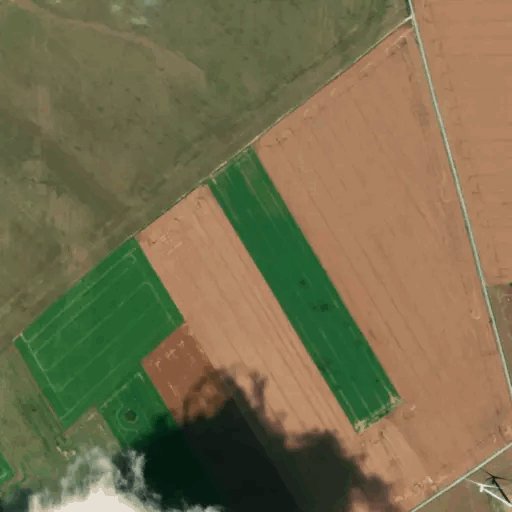wt: (467, 467, 512, 512)
